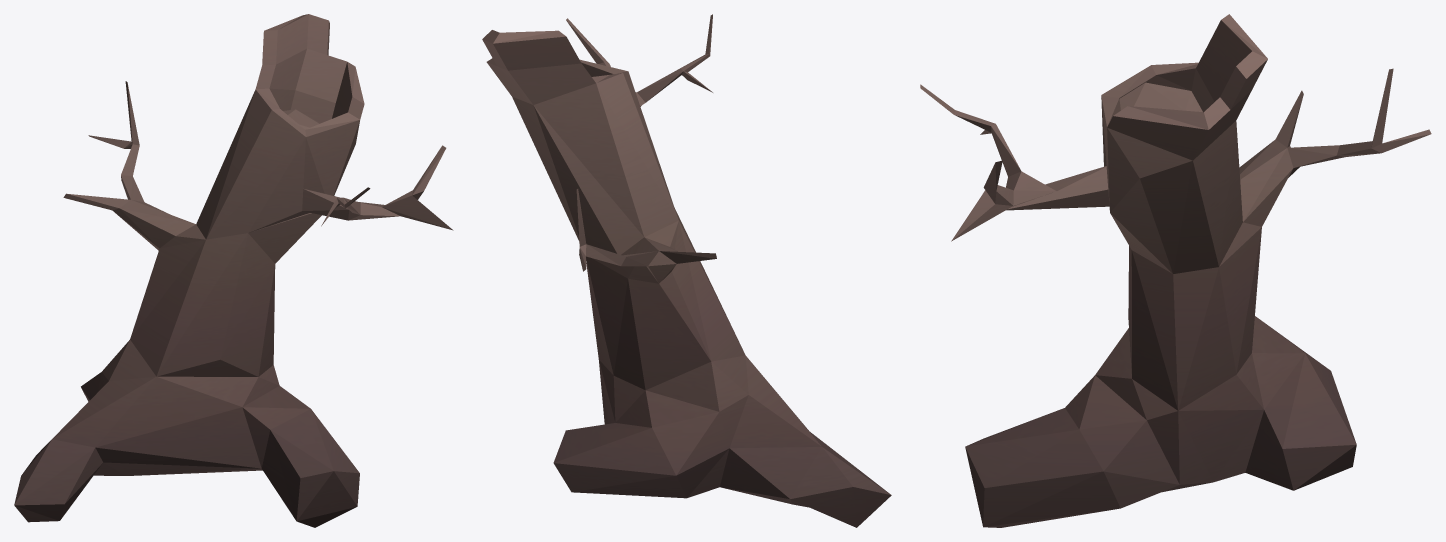
File: tree7.glb
The picture shows the model from 3 angles, left to right: view 1: azimuth 30°, elevation 25°; view 2: azimuth 150°, elevation 25°; view 3: azimuth 270°, elevation 25°; orthographic projection. The views are drawn at different scales.
Parts seen in each view (by area): view 1: tree7; view 2: tree7; view 3: tree7.
Part boxes in pixels (left/top/right/bottom): tree7: left=14, top=14, right=453, bottom=527; tree7: left=482, top=14, right=891, bottom=527; tree7: left=920, top=14, right=1431, bottom=527.
Size of the model in its own units: 1.88 by 2.06 by 1.78.
Materials: 1 (1 with a texture image).
